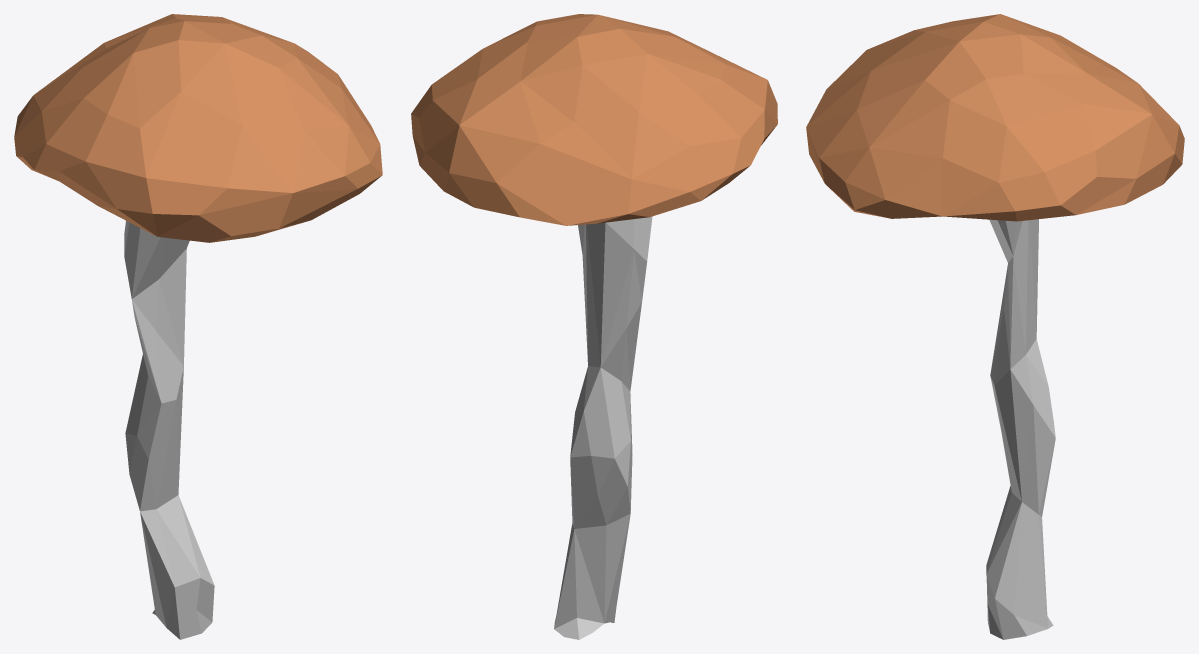
File: Mushroom.fbx
3 views of the same model, side by side, from view 1: azimuth 30°, elevation 25°; view 2: azimuth 150°, elevation 25°; view 3: azimuth 270°, elevation 25° (orthographic).
Visible parts, largest first — view 1: mushroom; view 2: mushroom; view 3: mushroom.
Boxes of the visible parts, <box> form: mushroom: <box>14,14,382,639</box>; mushroom: <box>411,14,777,639</box>; mushroom: <box>806,14,1184,639</box>.
Size of the model in its own units: 163 by 293 by 168.
